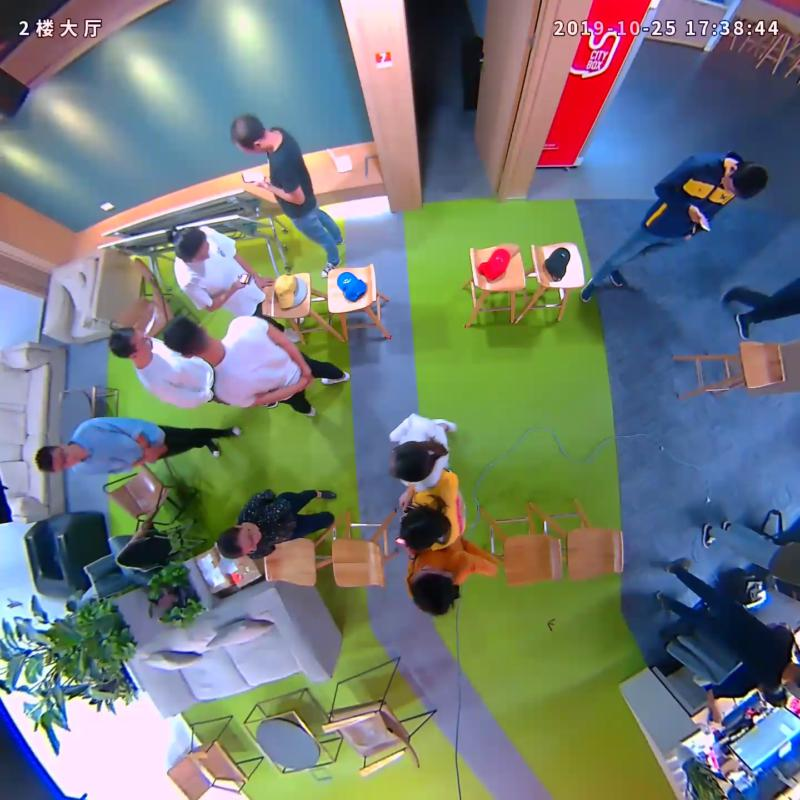head: (411, 567, 458, 615), (160, 317, 211, 358), (720, 160, 769, 199), (399, 505, 442, 549), (389, 439, 431, 482), (230, 115, 269, 157), (219, 523, 263, 558), (108, 326, 154, 358), (172, 225, 210, 262), (35, 444, 80, 474)
